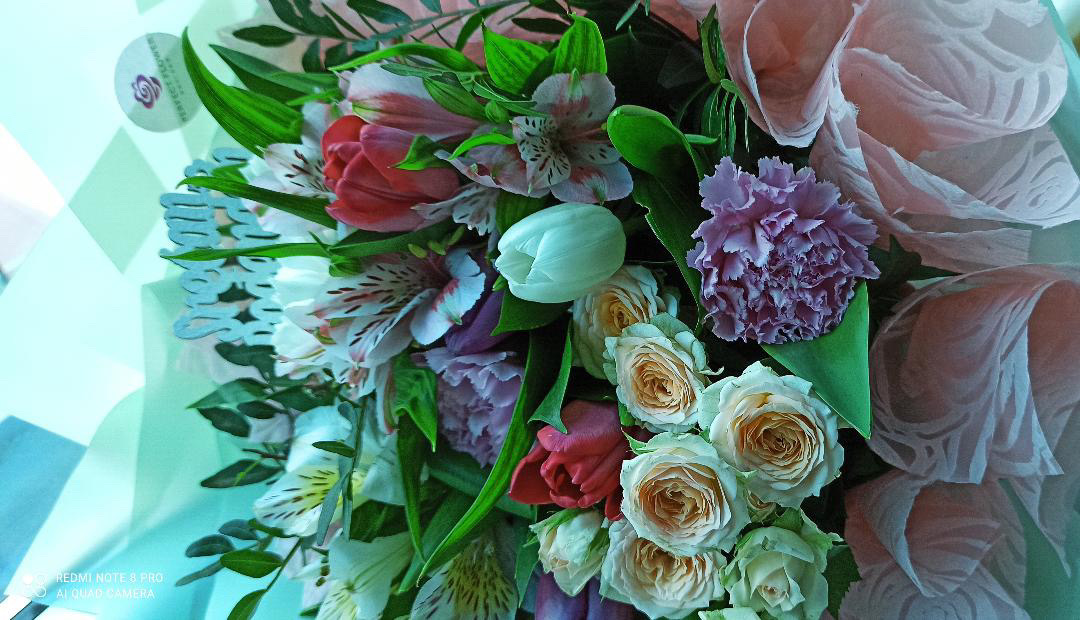rose: (703, 373, 837, 498), (625, 434, 738, 551), (600, 313, 702, 429), (606, 520, 718, 614), (743, 520, 807, 616)
tulip: (316, 77, 470, 233), (492, 199, 631, 302), (531, 396, 631, 509)
